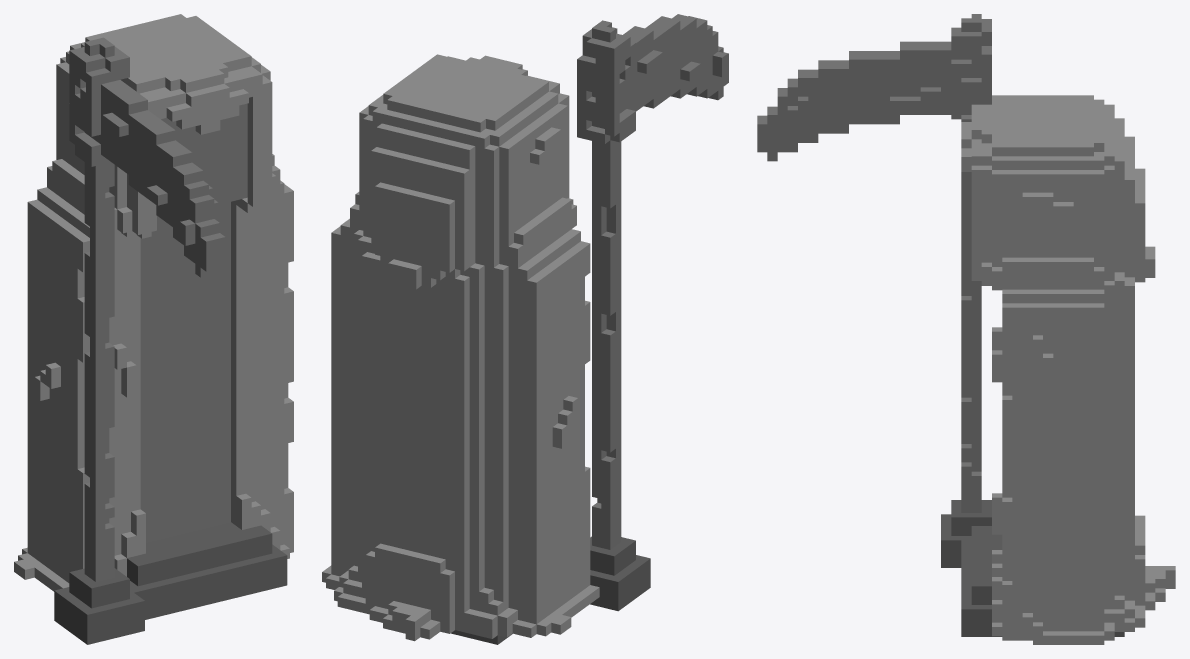
File: Reaper.obj
The picture shows the model from 3 angles, left to right: view 1: azimuth 30°, elevation 25°; view 2: azimuth 150°, elevation 25°; view 3: azimuth 270°, elevation 25°; orthographic projection. The views are drawn at different scales.
Size of the model in its own units: 2.6 by 5.8 by 4.1.
1 material, 1 textured.
